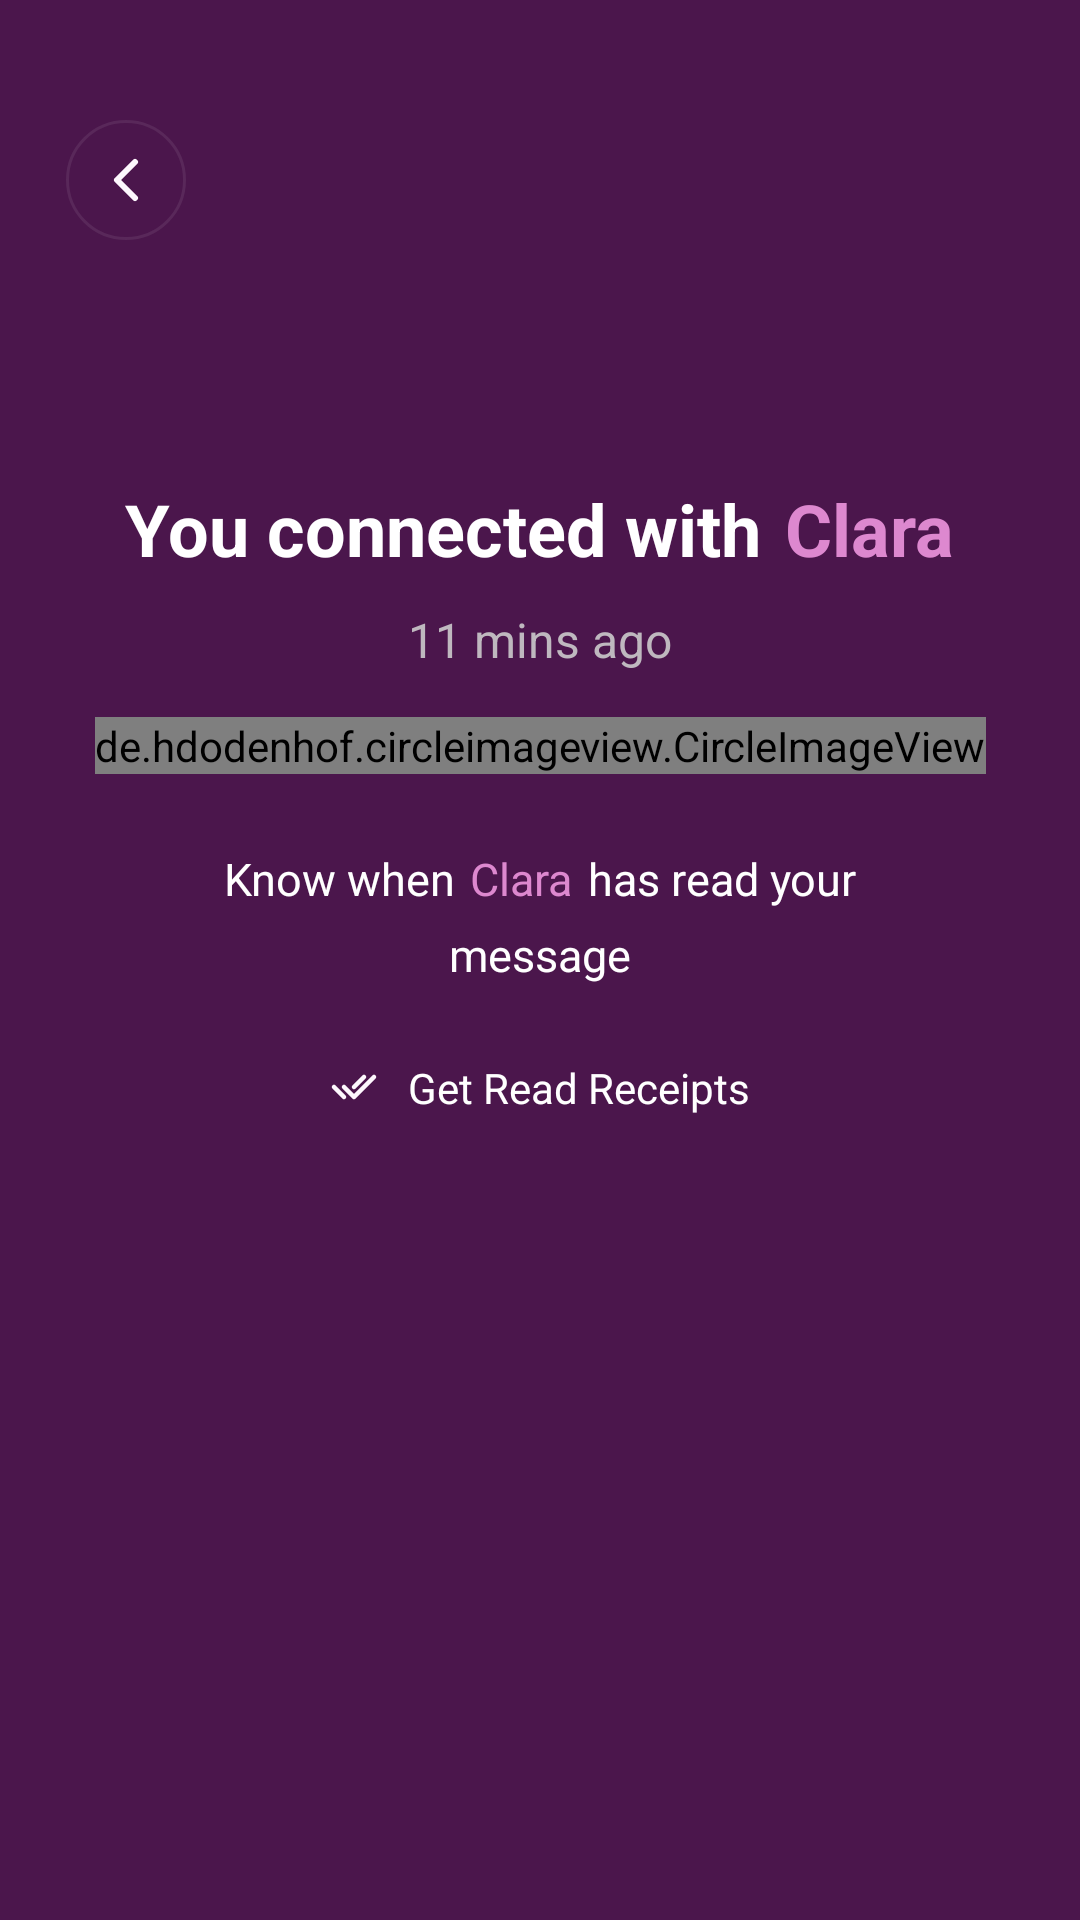

Icon bounding boxes for this 1080 x 1920 phone screenshot, format BBox(x1, y1, x2, y2):
back: BBox(114, 159, 138, 201)
